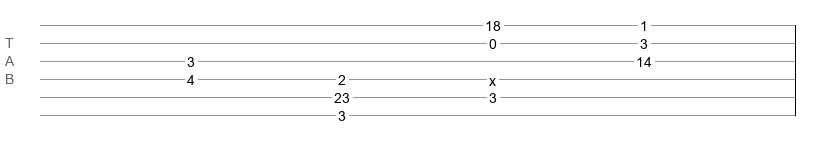0: (489, 36, 497, 46)
1: (640, 18, 648, 28)
14: (636, 54, 652, 64)
18: (485, 18, 501, 28)
2: (338, 72, 346, 82)
23: (334, 90, 350, 100)
3: (187, 54, 195, 64), (338, 108, 346, 118), (489, 90, 497, 100), (640, 36, 648, 46)
4: (187, 72, 195, 82)
x: (489, 73, 496, 81)
